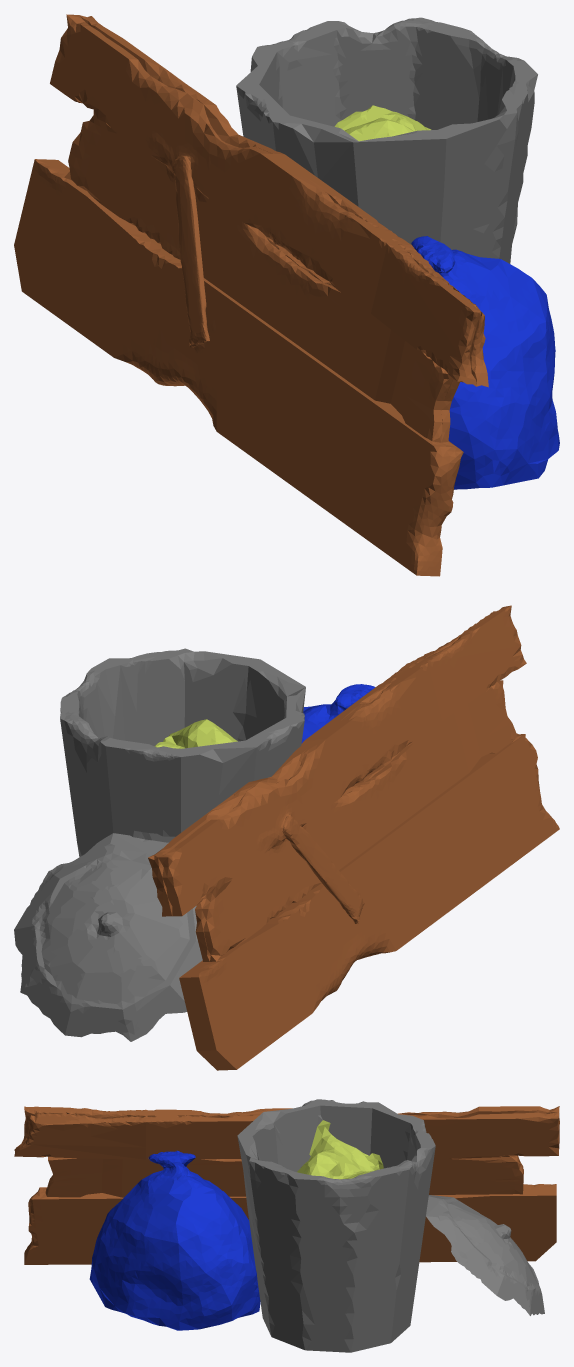
Rendered from Barikade2.fbx.
The picture shows the model from 3 angles, top to bottom: view 1: azimuth 30°, elevation 25°; view 2: azimuth 150°, elevation 25°; view 3: azimuth 270°, elevation 25°; orthographic projection. The views are drawn at different scales.
Parts seen in each view (by area): view 1: Cube, Circle.002, Icosphere; view 2: Cube, Circle.002, Icosphere; view 3: Circle.002, Cube, Icosphere.
Part boxes in pixels (<box>): Cube: <box>14,14,488,576</box>; Circle.002: <box>236,17,537,263</box>; Icosphere: <box>411,236,559,489</box>; Cube: <box>148,605,559,1070</box>; Circle.002: <box>14,648,305,1041</box>; Icosphere: <box>301,684,375,743</box>; Circle.002: <box>237,1099,544,1352</box>; Cube: <box>14,1106,559,1264</box>; Icosphere: <box>89,1150,260,1330</box>.
Size of the model in its own units: 257 by 204 by 546.
